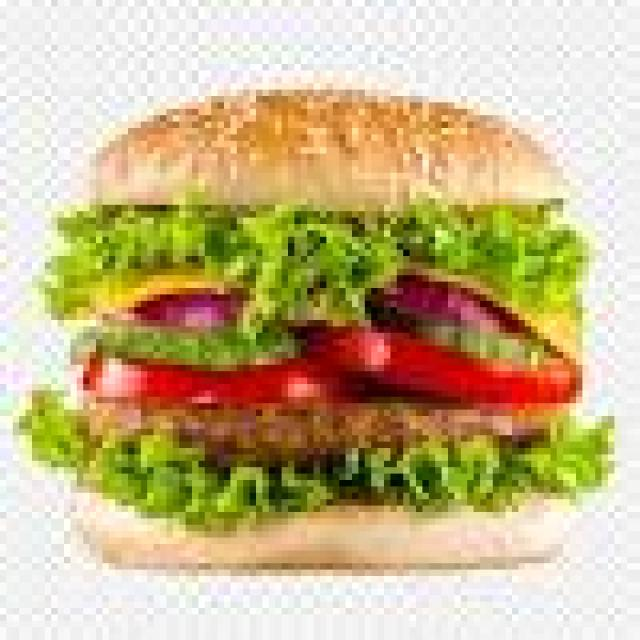Burger: (98, 110, 600, 582)
